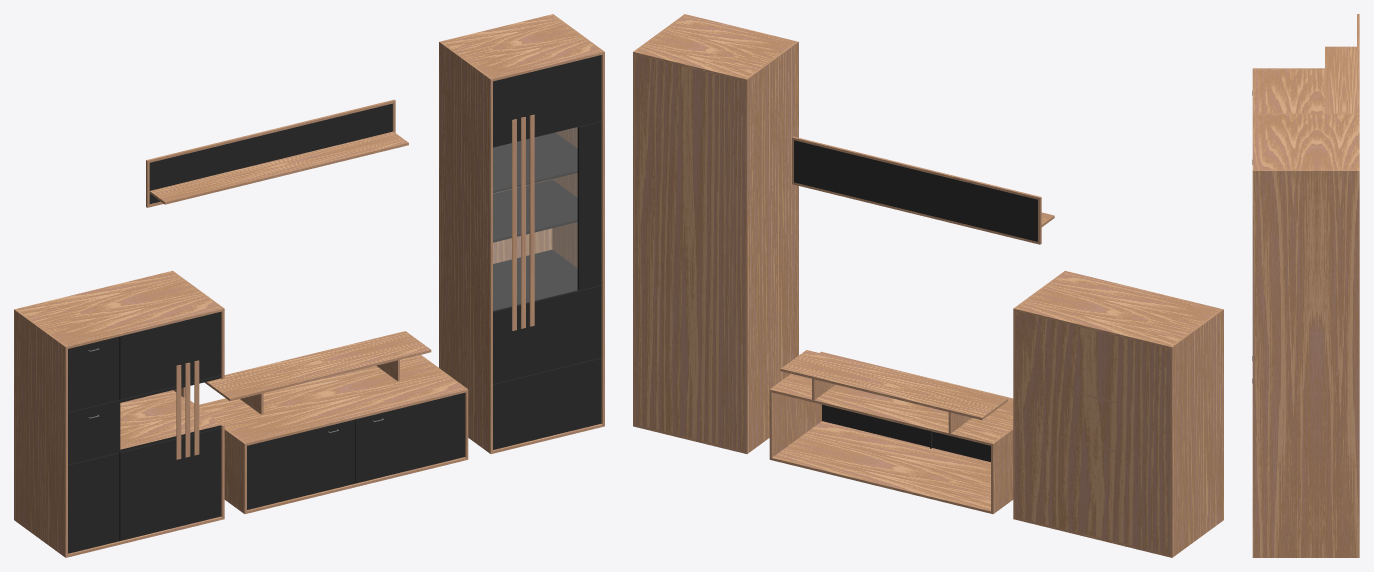
Rendered from dlx_-tv_wall2_elegant.glb.
3 renders of one model, left to right at view 1: azimuth 30°, elevation 25°; view 2: azimuth 150°, elevation 25°; view 3: azimuth 270°, elevation 25°, orthographic. The views are drawn at different scales.
Parts seen in each view (by area): view 1: Plane, Plane.001, Seitenschrank_rechts, Cube, Schrank_links.001, Scheibe_rechts, Schrank_links.002, TV_Brett.007, Seitenschrank_rechts.002, TV_Brett, Details, TV_Brett.005 (+7 smaller); view 2: Seitenschrank_rechts.003, Schrank_links.002, Cube, Seitenschrank_rechts, Schrank_links.001, TV_Brett.007, Seitenschrank_rechts.002, TV_Brett, Plane, TV_Brett.006, Seitenschrank_rechts.001; view 3: Seitenschrank_rechts.001, Seitenschrank_rechts.002, Schrank_links.002, TV_Brett.005, TV_Brett.006, Seitenschrank_rechts.
Part boxes in pixels (x1,y1,x2,y2): Plane: [247, 55, 601, 509]; Plane.001: [68, 312, 220, 553]; Seitenschrank_rechts: [439, 41, 492, 453]; Cube: [199, 355, 468, 513]; Schrank_links.001: [14, 309, 67, 557]; Scheibe_rechts: [493, 127, 577, 310]; Schrank_links.002: [17, 271, 222, 557]; TV_Brett.007: [149, 103, 392, 204]; Seitenschrank_rechts.002: [442, 14, 602, 81]; TV_Brett: [204, 331, 431, 401]; Details: [176, 114, 534, 459]; TV_Brett.005: [149, 131, 408, 204]; Seitenschrank_rechts.003: [635, 55, 744, 453]; Schrank_links.002: [1015, 271, 1220, 557]; Cube: [769, 351, 1013, 513]; Seitenschrank_rechts: [745, 41, 798, 453]; Schrank_links.001: [1170, 309, 1223, 557]; TV_Brett.007: [794, 140, 1037, 241]; Seitenschrank_rechts.002: [635, 14, 795, 81]; TV_Brett: [780, 350, 1007, 419]; Plane: [822, 404, 990, 461]; TV_Brett.006: [794, 137, 1038, 243]; Seitenschrank_rechts.001: [633, 14, 686, 426]; Seitenschrank_rechts.001: [1252, 169, 1359, 557]; Seitenschrank_rechts.002: [1252, 114, 1359, 169]; Schrank_links.002: [1252, 69, 1324, 113]; TV_Brett.005: [1325, 46, 1356, 113]; TV_Brett.006: [1357, 15, 1359, 113]; Seitenschrank_rechts: [1252, 113, 1359, 114].
Size of the model in its own units: 3.37 by 2.24 by 0.562.
Materials: 4 (1 with a texture image).
